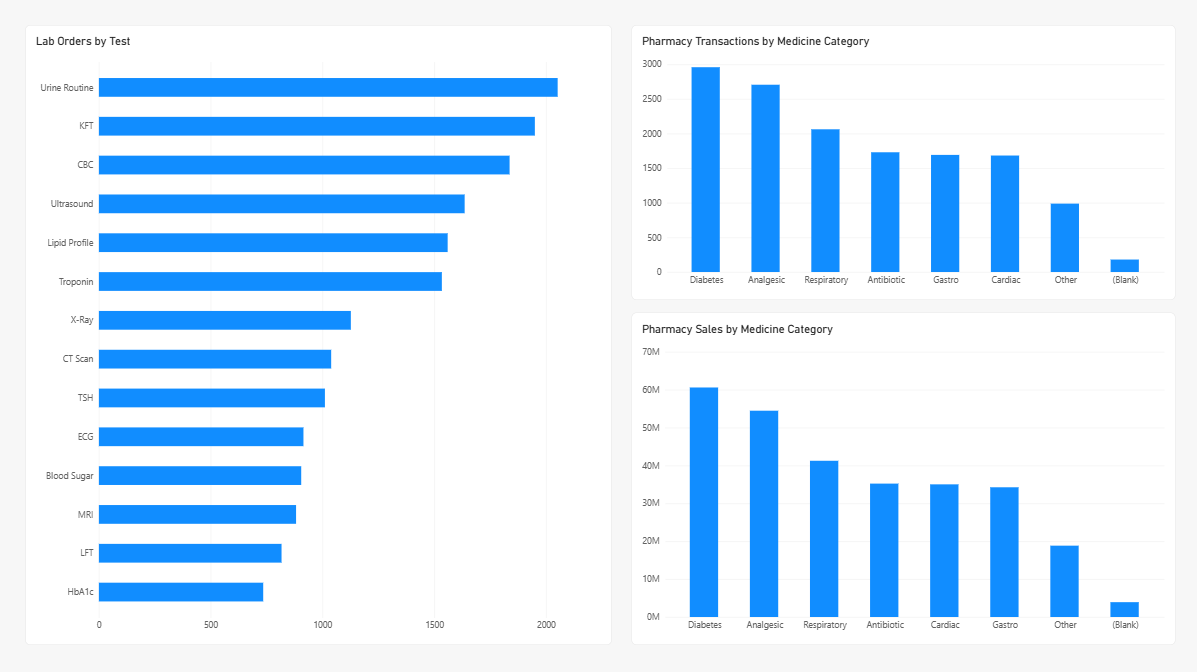

What the dashboard file says about the page in this screenshot:
{"tool":"powerbi","page":{"name":"Pharmacy & Laboratory","canvas":[1920,1080],"ordinal":3},"visuals":[{"type":"clusteredBarChart","title":"Lab Orders by Test","fields":{"Category":["09_lab_tests_cleaned.Test_Name"],"Y":["10_lab_orders_cleaned.Total Lab Orders"]},"box":[42,40,938,992],"z":0},{"type":"clusteredColumnChart","title":"Pharmacy Transactions by Medicine Category","fields":{"Category":["07_pharmacy_master_cleaned.Category"],"Y":["08_pharmacy_transactions_cleaned.Total Pharmacy Transactions"]},"box":[1012,40,870,440],"z":1000},{"type":"clusteredColumnChart","title":"Pharmacy Sales by Medicine Category","fields":{"Category":["07_pharmacy_master_cleaned.Category"],"Y":["08_pharmacy_transactions_cleaned.Total Pharmacy Sales"]},"box":[1012,500,870,532],"z":2000}]}

Visuals, with their boxes in screenshot pixels (x1, y1, x2, y2), scaled from the page's 1920x1080 canvas onto the 1197x672 screenshot:
"Lab Orders by Test" clusteredBarChart: {"x1": 26, "y1": 25, "x2": 611, "y2": 642}
"Pharmacy Transactions by Medicine Category" clusteredColumnChart: {"x1": 631, "y1": 25, "x2": 1173, "y2": 299}
"Pharmacy Sales by Medicine Category" clusteredColumnChart: {"x1": 631, "y1": 311, "x2": 1173, "y2": 642}
